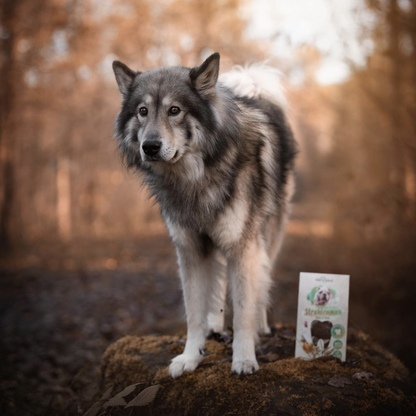husky: (107, 47, 303, 381)
